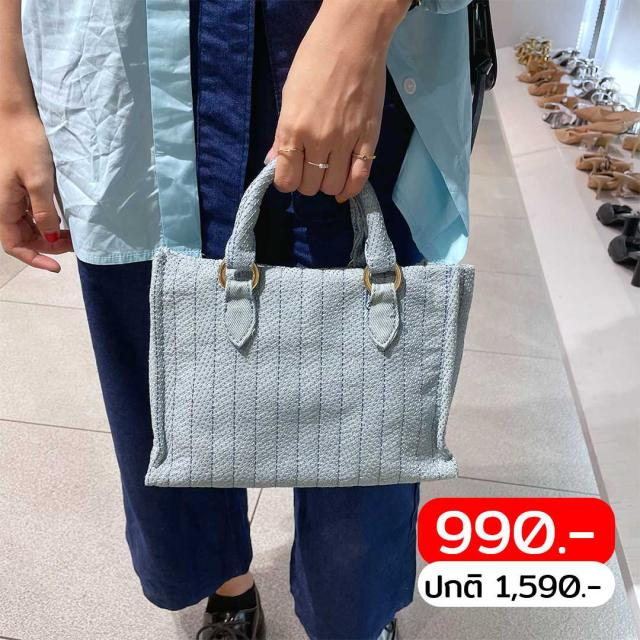handbag: (122, 234, 490, 504)
